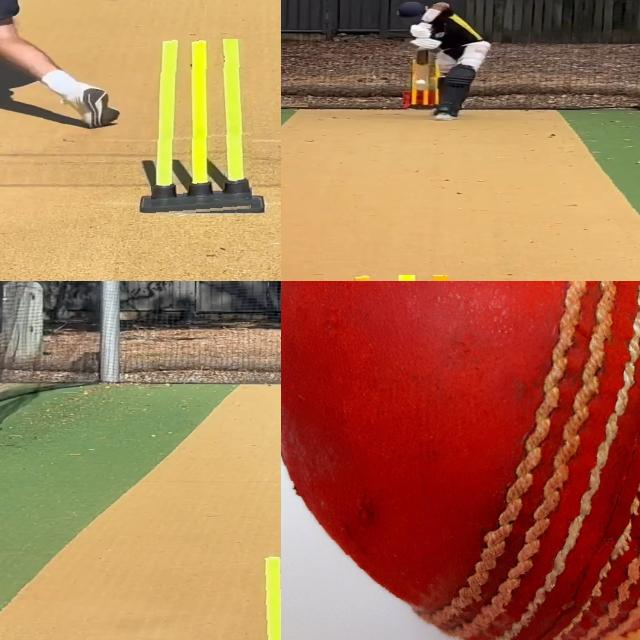Cricket ball: (281, 281, 640, 640), (413, 78, 428, 86)
Stumps: (151, 39, 254, 216)
